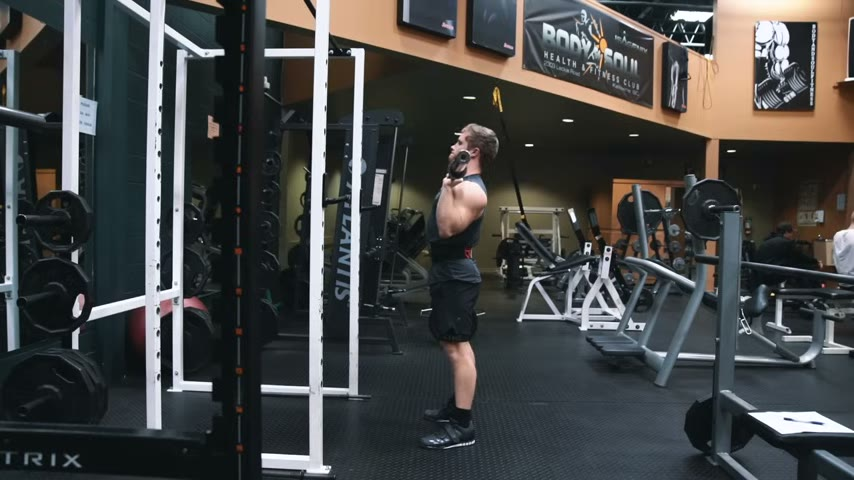barbell_plate_side: (125, 188, 225, 447)
